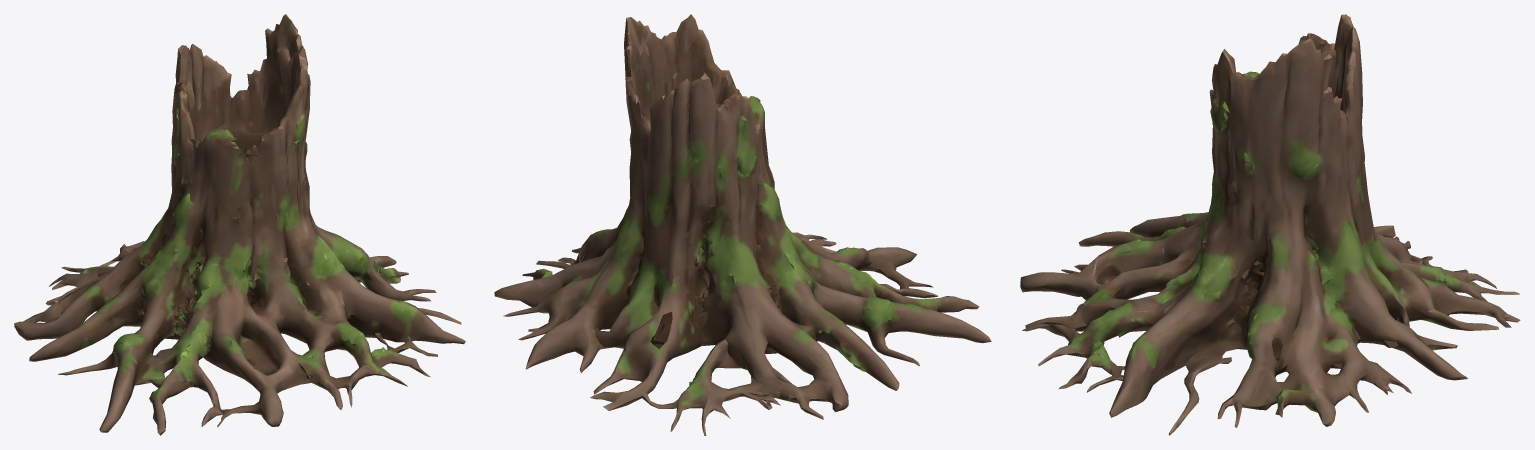
Rendered from StumpRooty.glb.
3 views of the same model, side by side, from view 1: azimuth 30°, elevation 25°; view 2: azimuth 150°, elevation 25°; view 3: azimuth 270°, elevation 25° (orthographic). The views are drawn at different scales.
Visible parts, largest first — view 1: StumpRooty; view 2: StumpRooty; view 3: StumpRooty.
Boxes of the visible parts, x1,y1,x2,y2 form: StumpRooty: [14, 14, 465, 435]; StumpRooty: [494, 14, 991, 435]; StumpRooty: [1020, 14, 1520, 435].
Size of the model in its own units: 1.92 by 1.44 by 1.92.
1 material, 1 textured.
